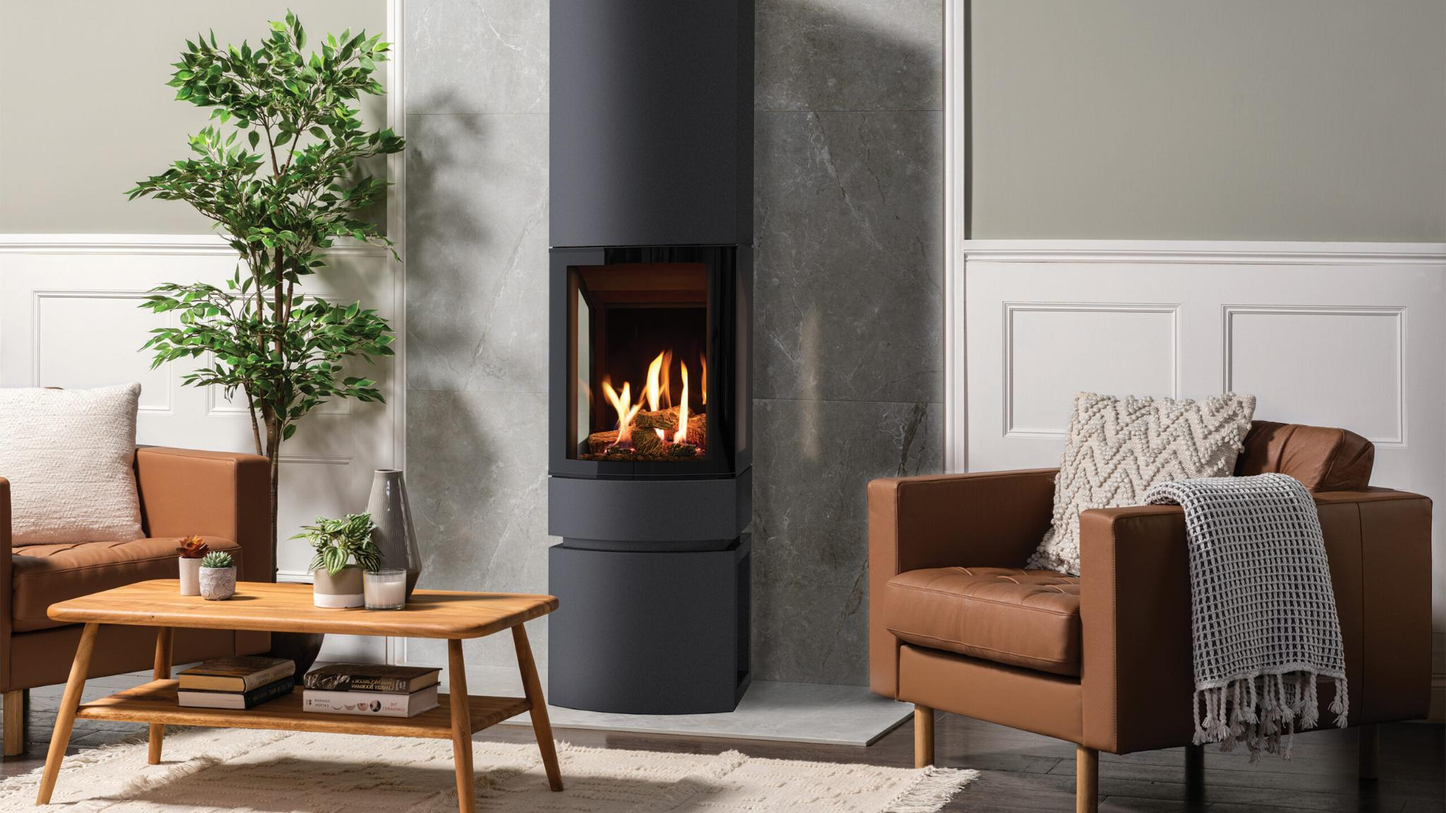controlled_fire: (557, 300, 746, 535)
